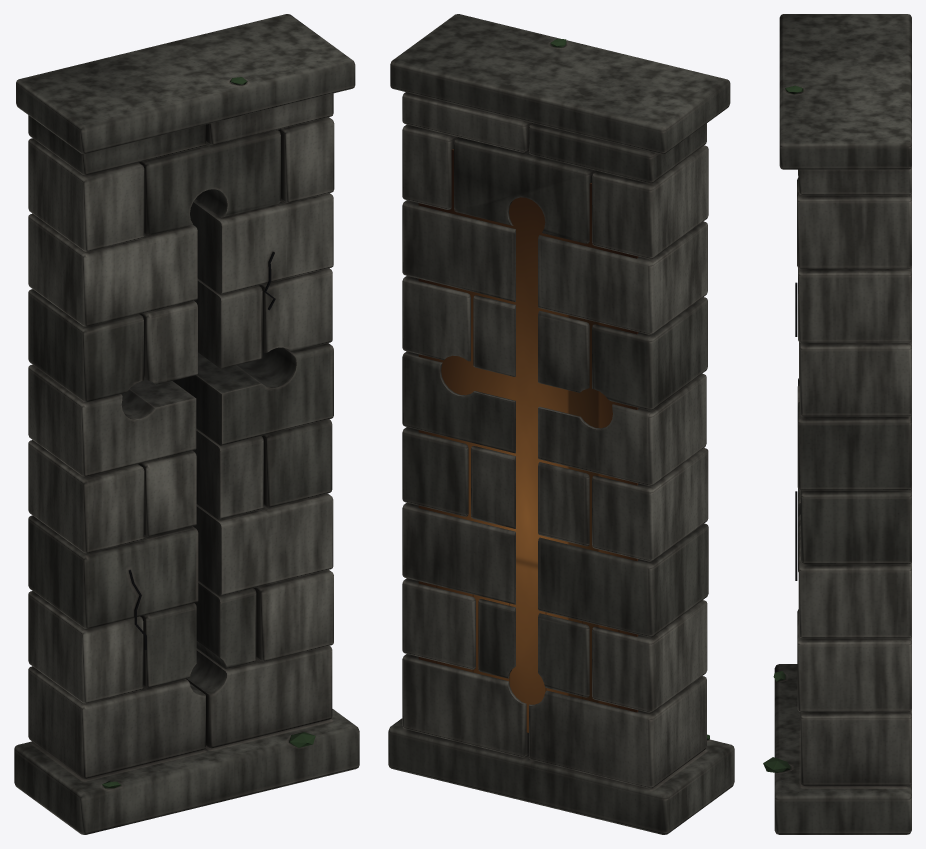
Rendered from ArrowSlit.fbx.
The picture shows the model from 3 angles, left to right: view 1: azimuth 30°, elevation 25°; view 2: azimuth 150°, elevation 25°; view 3: azimuth 270°, elevation 25°; orthographic projection. The views are drawn at different scales.
Visible parts, largest first — view 1: ArrowSlit_Main; view 2: ArrowSlit_Main, ArrowSlit_Room; view 3: ArrowSlit_Main.
Boxes of the visible parts, x1,y1,x2,y2 form: ArrowSlit_Main: (14,14,359,834); ArrowSlit_Main: (388,14,734,834); ArrowSlit_Room: (418,149,638,732); ArrowSlit_Main: (763,14,911,834).
Size of the model in its own units: 310 by 753 by 146.
